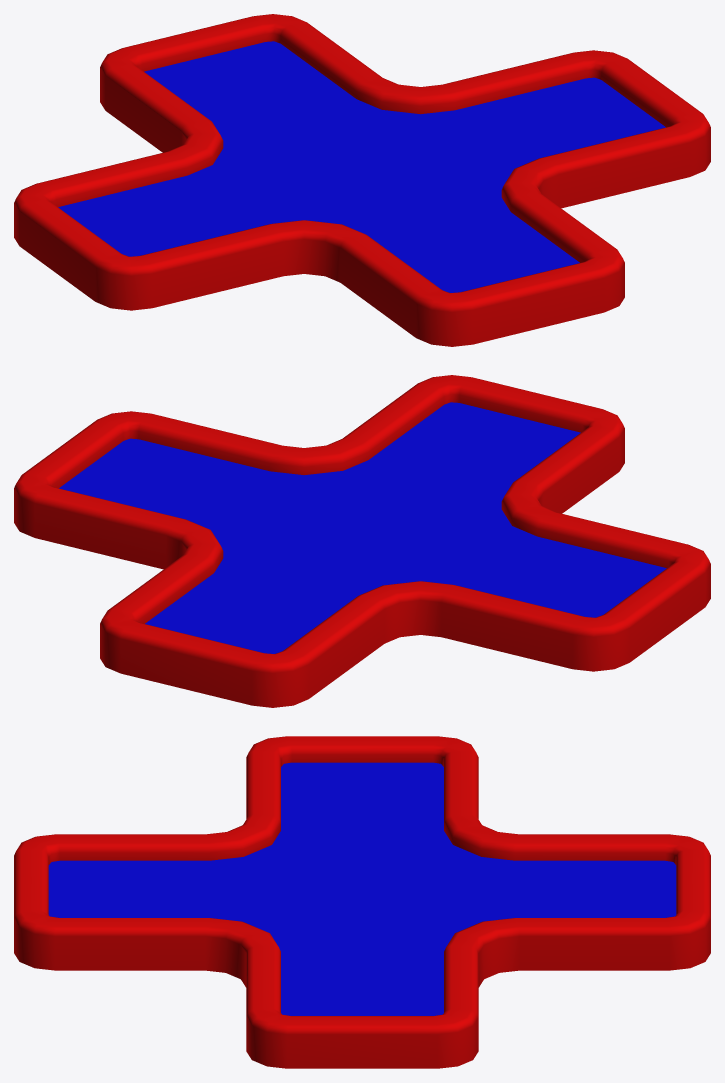
3 renders of one model, top to bottom at view 1: azimuth 30°, elevation 25°; view 2: azimuth 150°, elevation 25°; view 3: azimuth 270°, elevation 25°, orthographic.
Visible parts, largest first — view 1: 3x3; view 2: 3x3; view 3: 3x3.
Part boxes in pixels (bbox=[...]): 3x3: bbox=[14, 14, 710, 346]; 3x3: bbox=[14, 375, 710, 707]; 3x3: bbox=[14, 736, 710, 1068].
Size of the model in its own units: 600 by 38.86 by 600.
